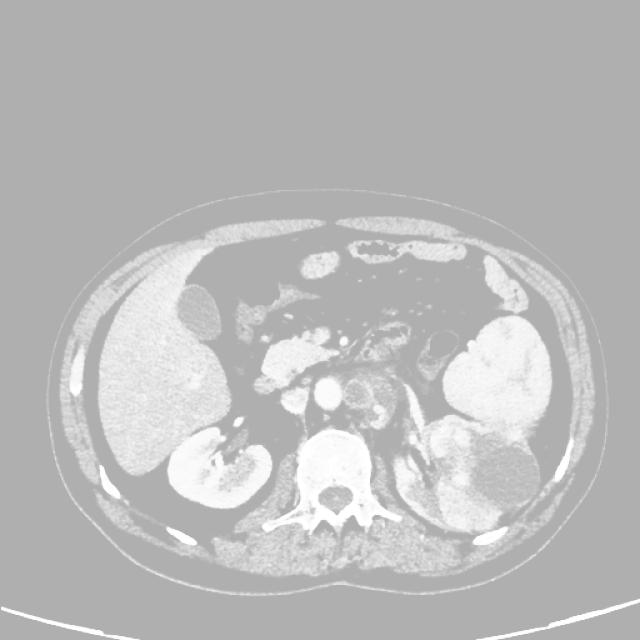TUMOR: (109, 327, 545, 491)
